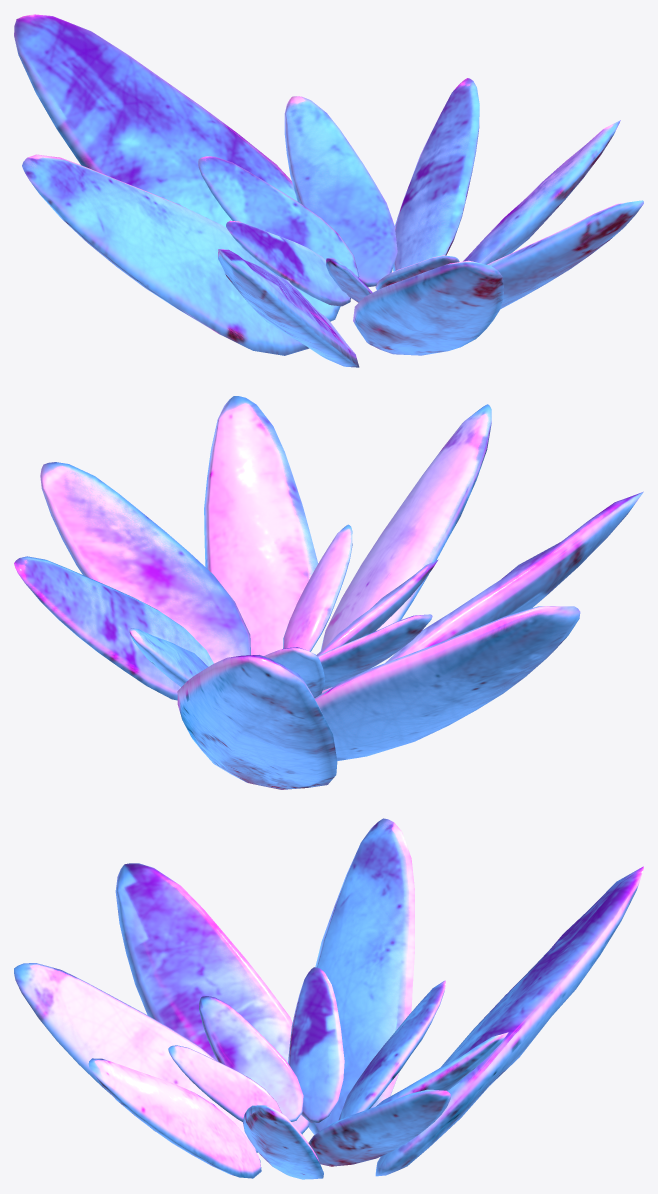
File: MysticonsBigPlant.glb
3 views of the same model, one above another, from view 1: azimuth 30°, elevation 25°; view 2: azimuth 150°, elevation 25°; view 3: azimuth 270°, elevation 25° (orthographic). The views are drawn at different scales.
Visible parts, largest first — view 1: Retopo_立方体.001; view 2: Retopo_立方体.001; view 3: Retopo_立方体.001.
Boxes of the visible parts, left/top/right/bottom form: Retopo_立方体.001: left=14, top=14, right=643, bottom=367; Retopo_立方体.001: left=14, top=396, right=643, bottom=789; Retopo_立方体.001: left=14, top=818, right=643, bottom=1179.
Size of what is drawn, in the model's own units: 4.12 by 1.79 by 4.36.
1 material, 1 textured.
